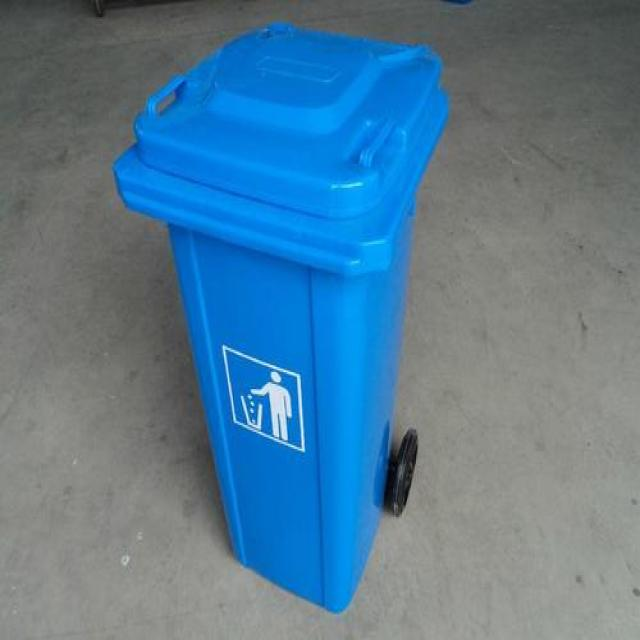garbage_bin: (110, 20, 448, 612)
